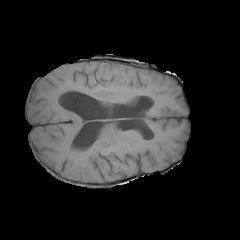glioma: (51, 64, 155, 102)
